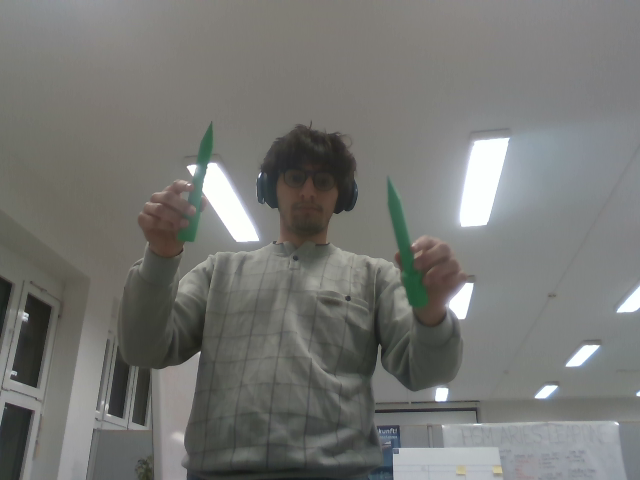Probe: (385, 171, 432, 311), (172, 118, 217, 244)
